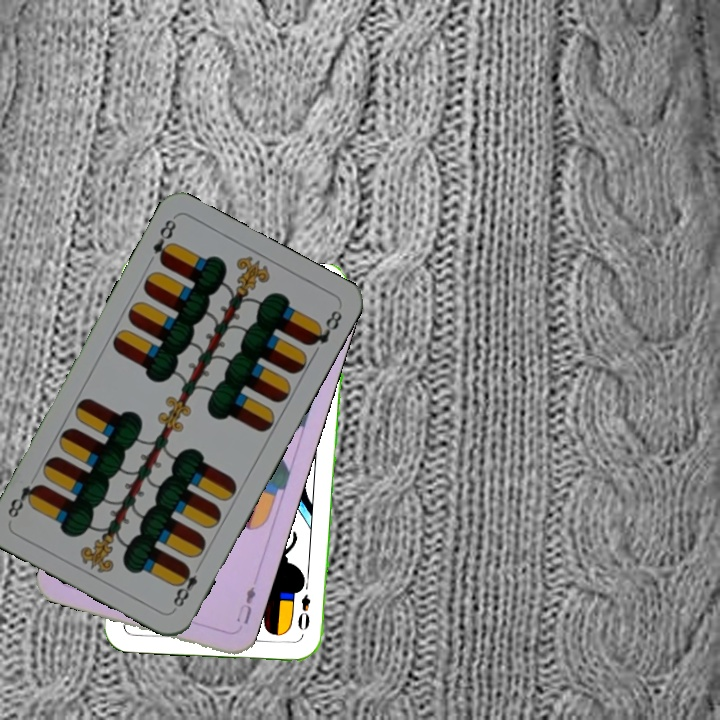E8: (168, 560, 205, 613), (148, 215, 179, 267)
EO: (293, 578, 313, 633)
EU: (232, 582, 258, 627)
